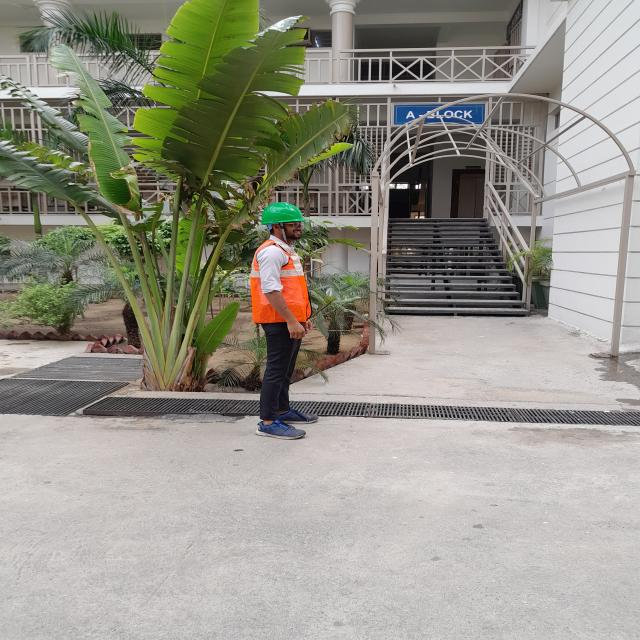safe: (251, 202, 318, 437)
